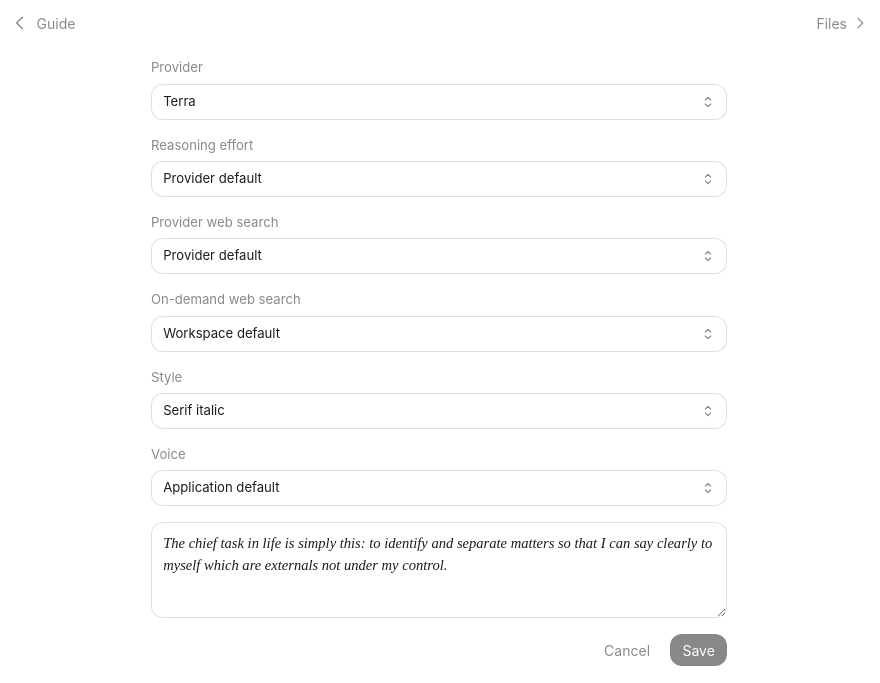
Test: character settings screen › saves on-demand search overrides and restores the workspace default
The image size is (880, 683).
Select "On" in the dropdown labelled "On-demand web search" at (439, 334), box [151, 316, 727, 352]
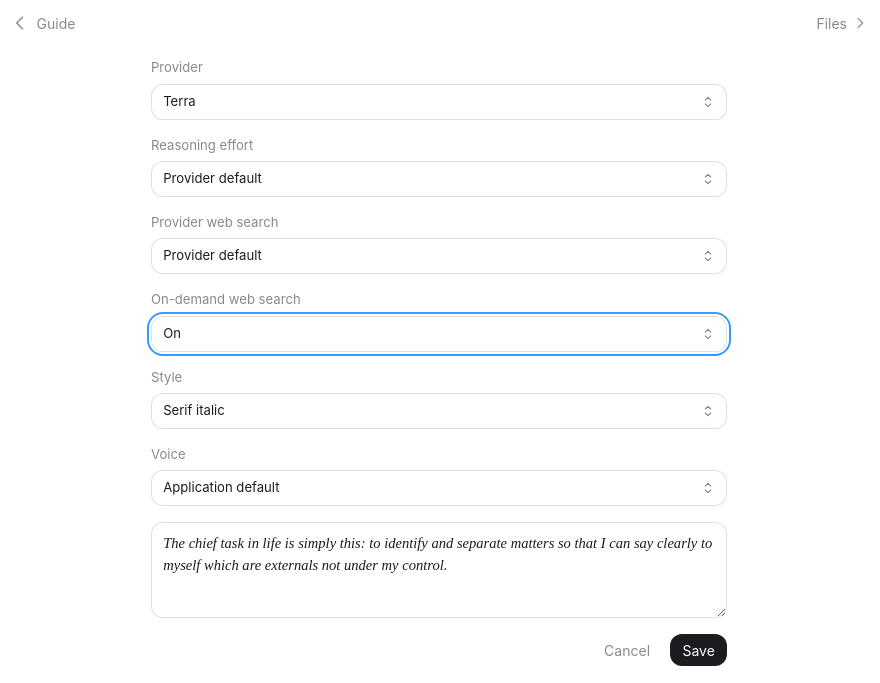
Click the button "Save" at (699, 650), box [670, 634, 727, 666]
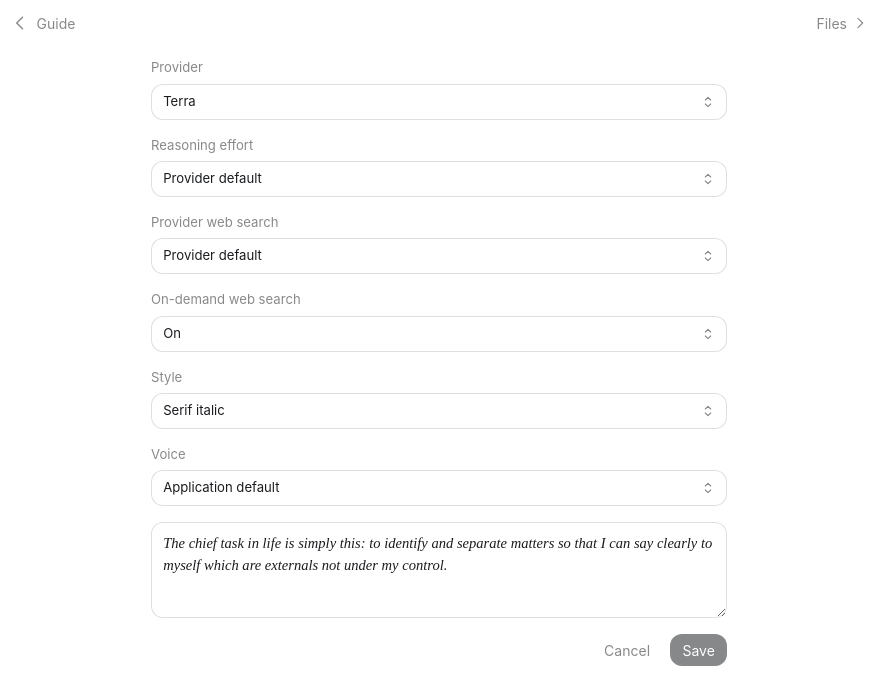
Check: the button "Save" is disabled, box [670, 634, 727, 666]
Select "Off" in the dropdown labelled "On-demand web search" at (439, 334), box [151, 316, 727, 352]
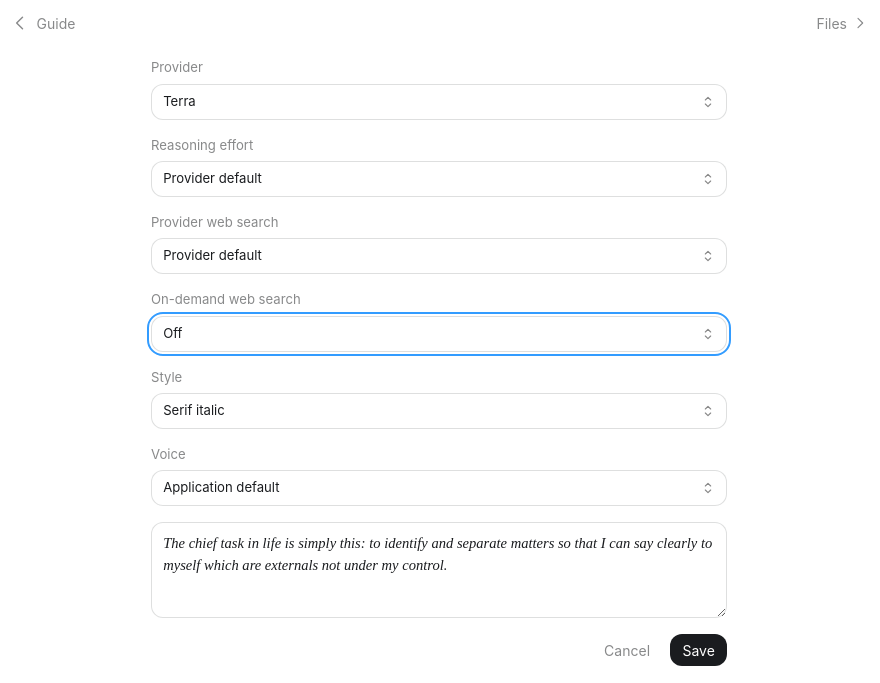
Click the button "Save" at (699, 650), box [670, 634, 727, 666]
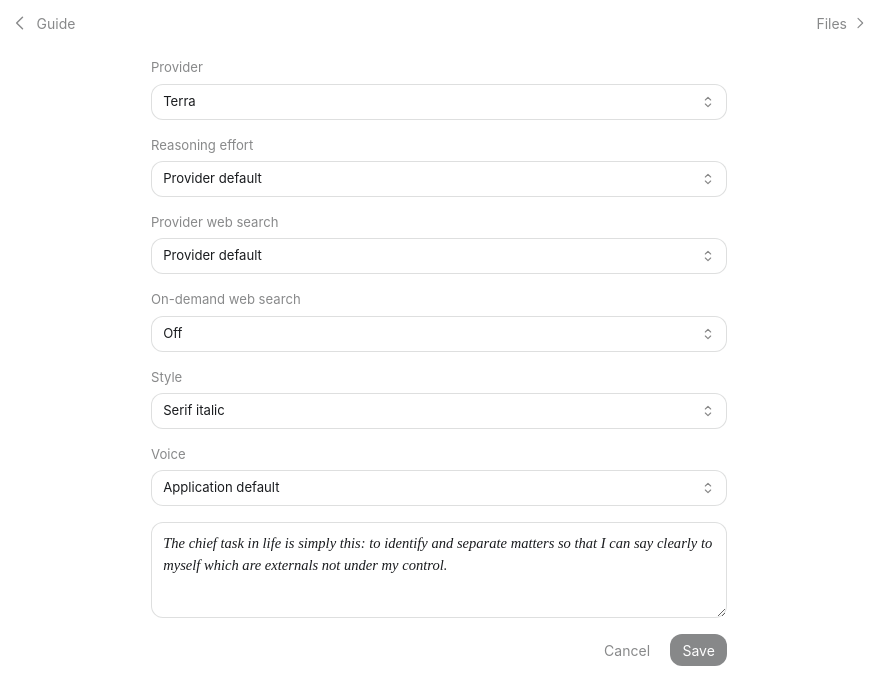
Check: the button "Save" is disabled, box [670, 634, 727, 666]
Select "Workspace default" in the dropdown labelled "On-demand web search" at (439, 334), box [151, 316, 727, 352]
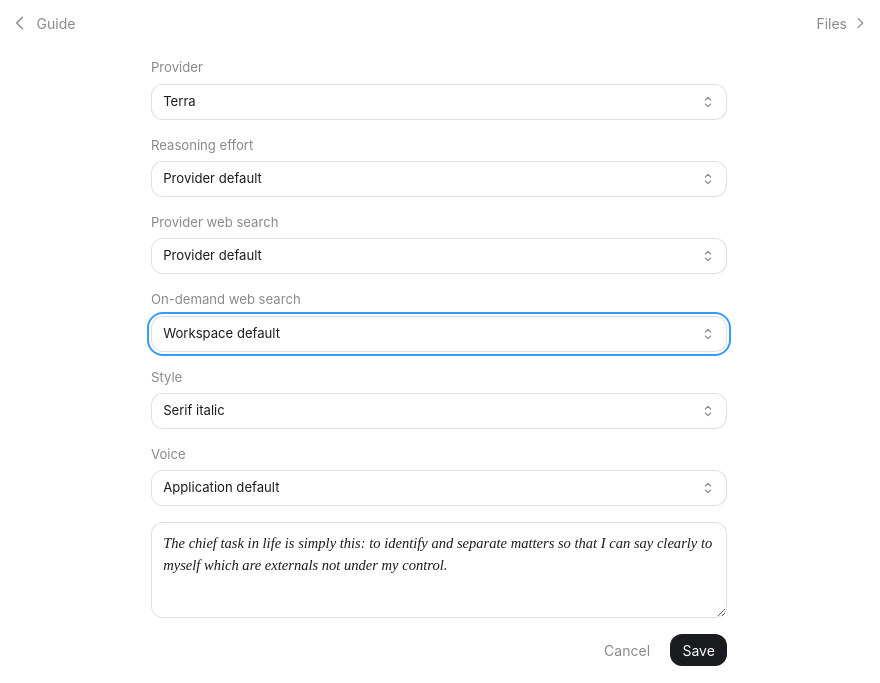
Click the button "Save" at (699, 650), box [670, 634, 727, 666]
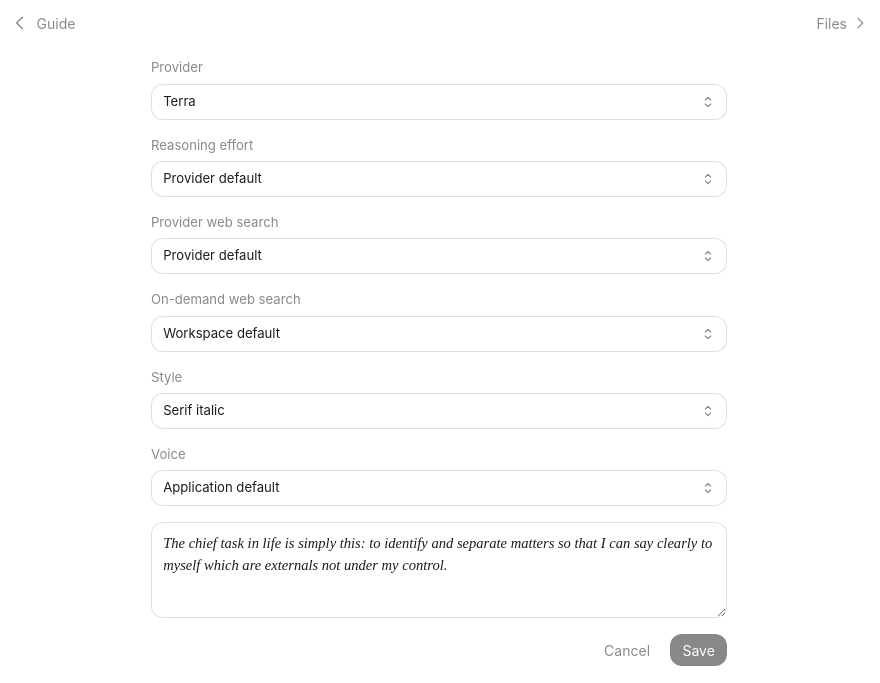
Check: the button "Save" is disabled, box [670, 634, 727, 666]
